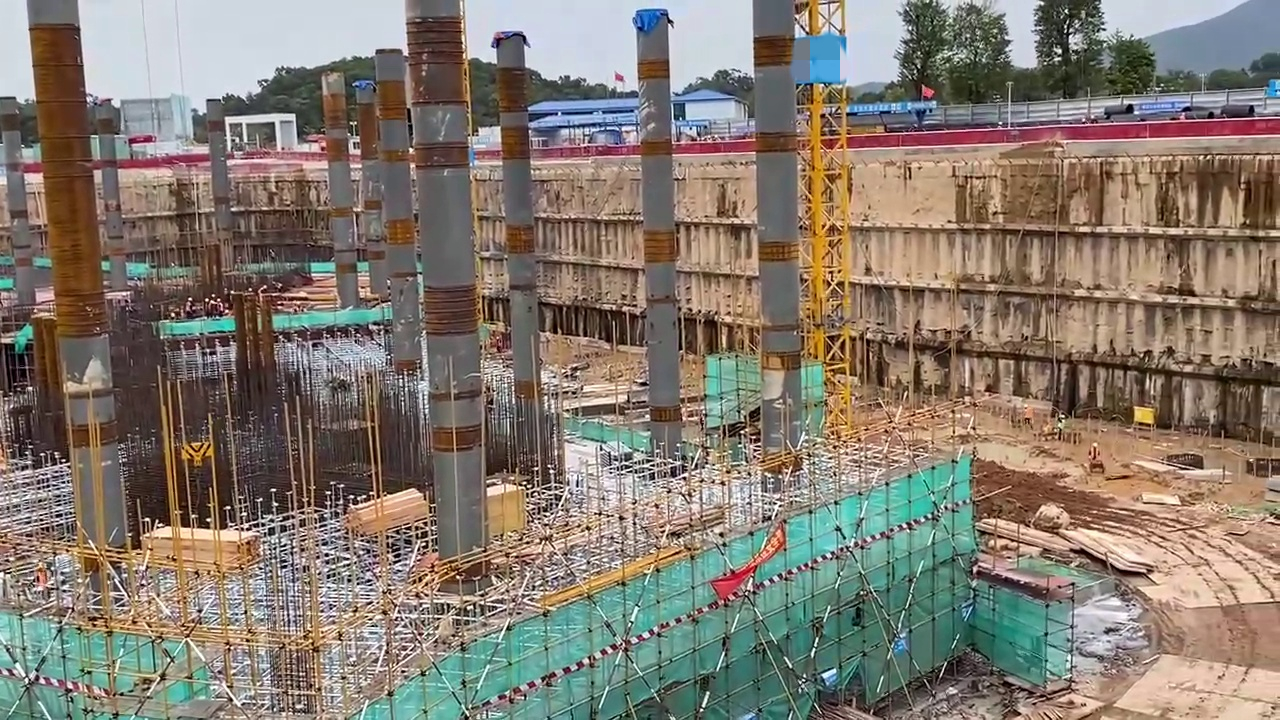board: (1075, 522, 1150, 573)
hook: (179, 439, 211, 465)
wood: (139, 526, 261, 574), (345, 491, 433, 536)
